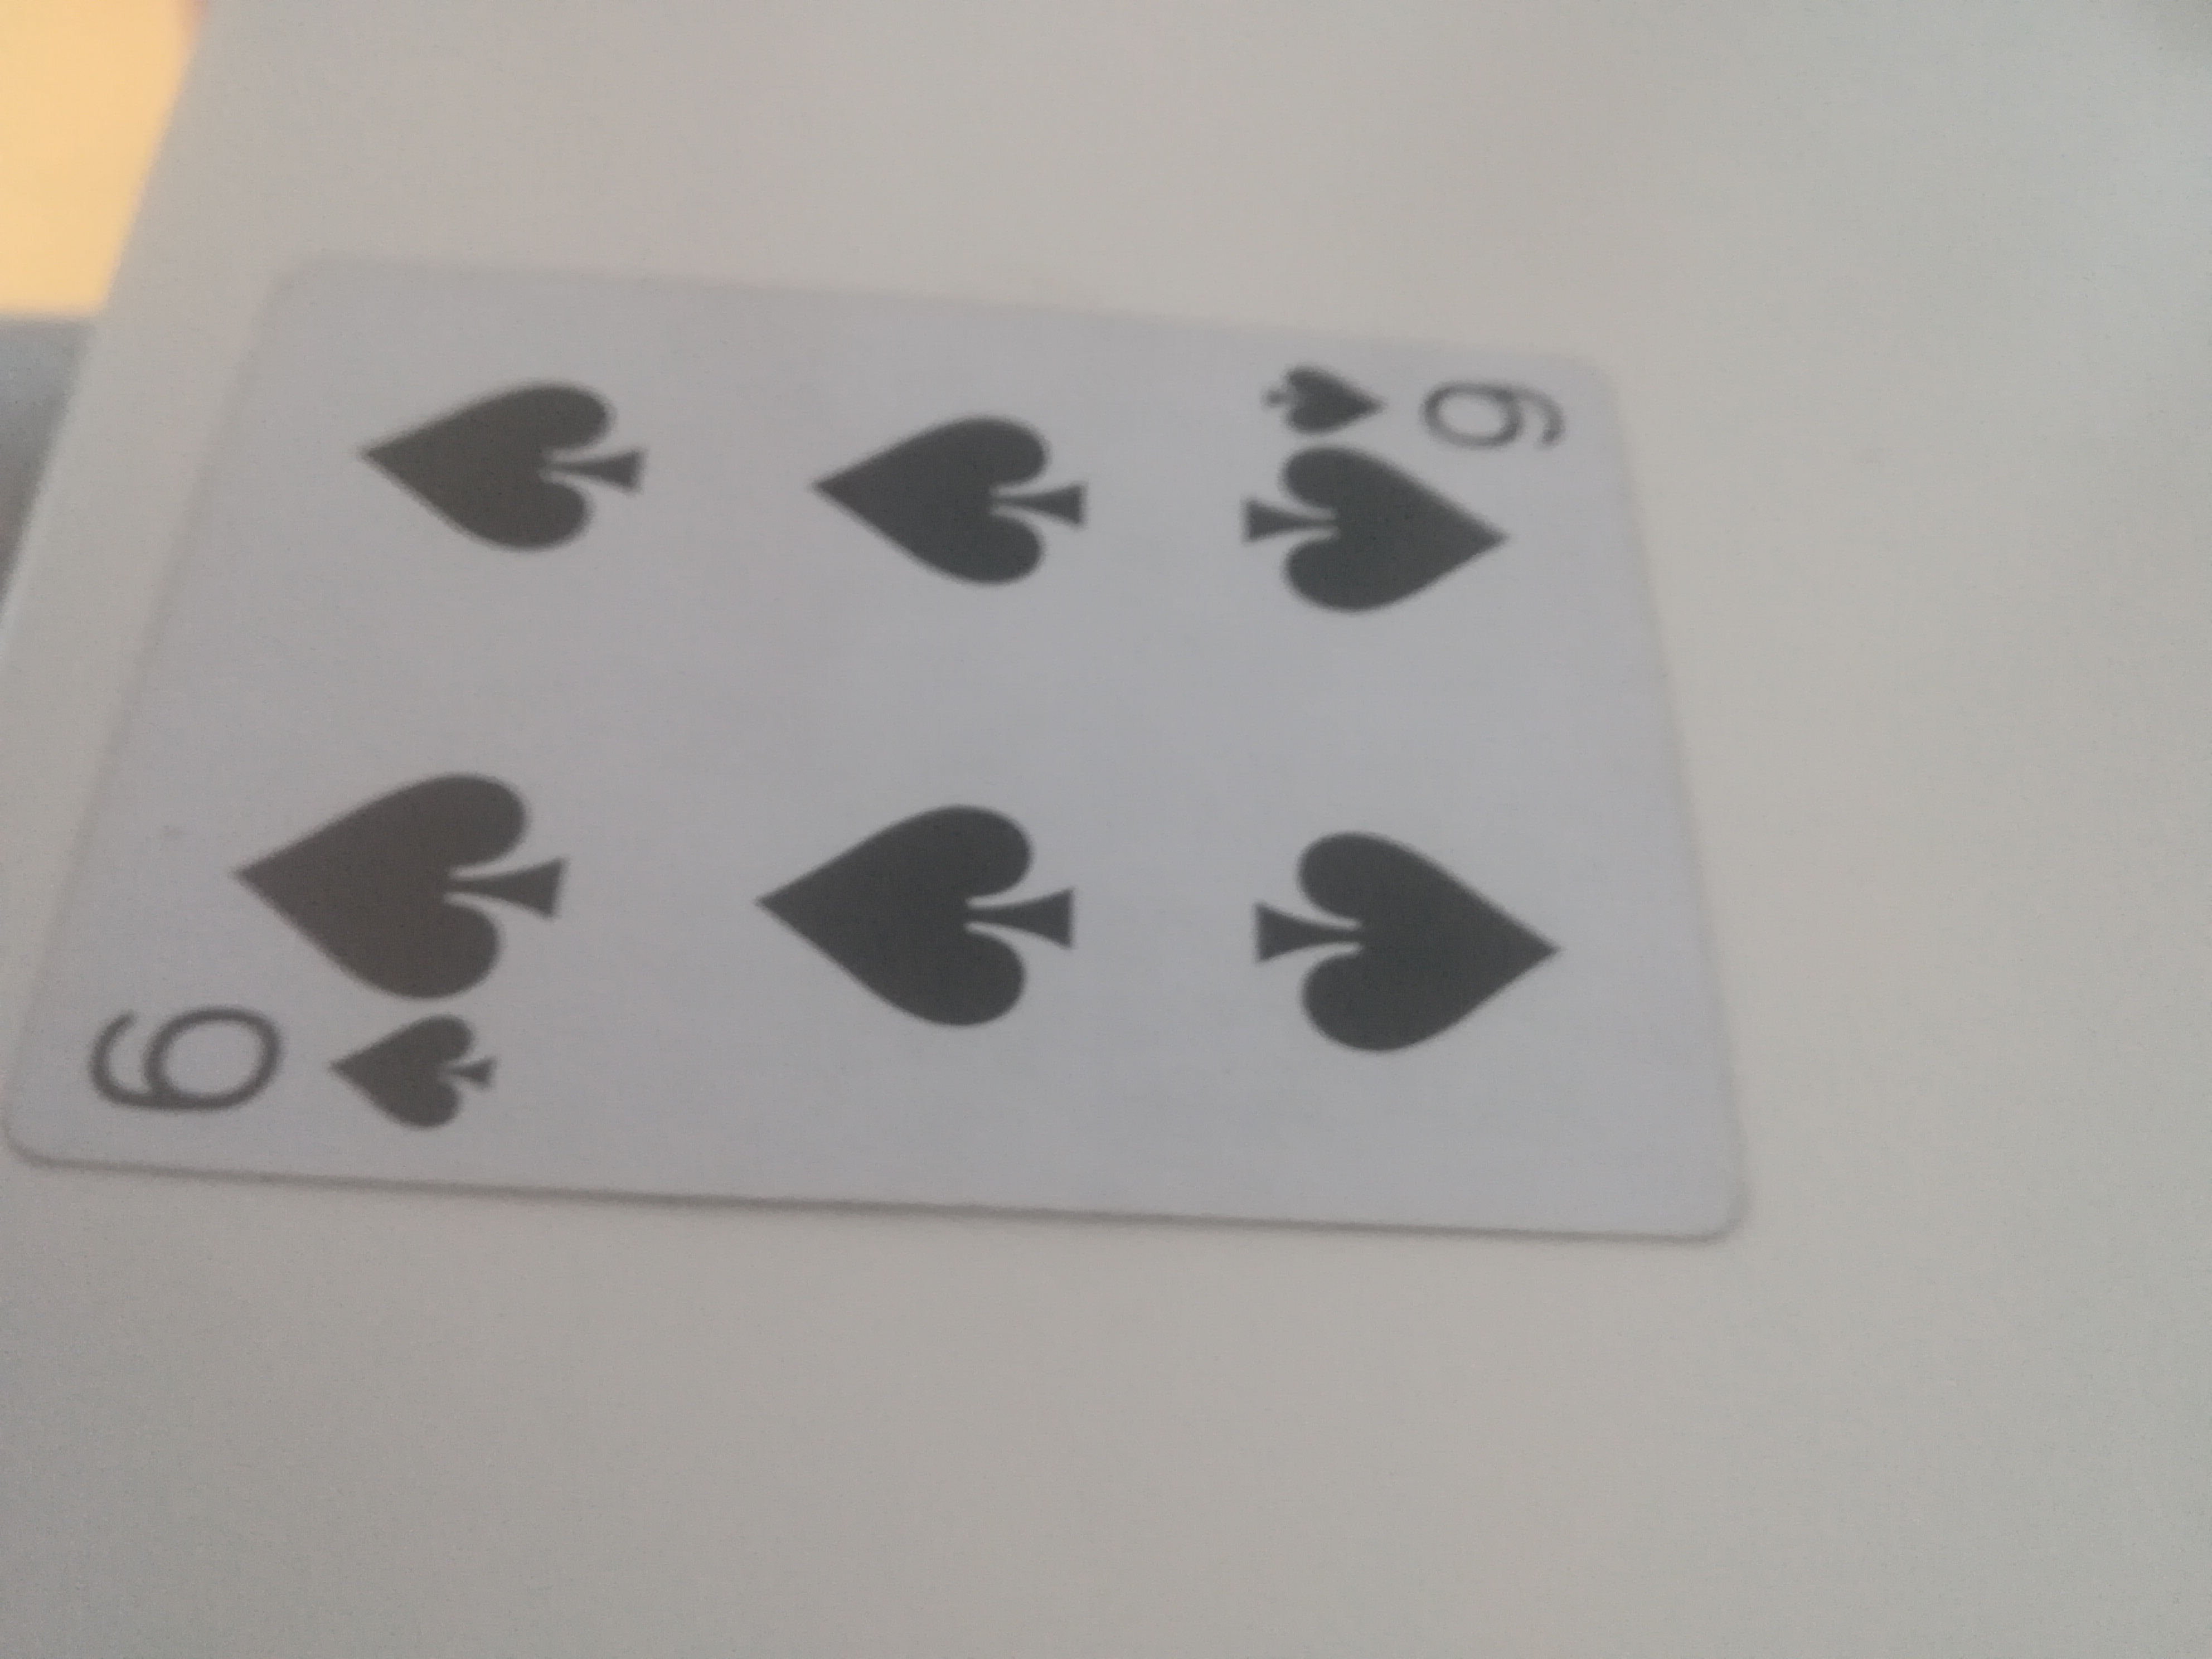6S: (35, 263, 1787, 1262)
